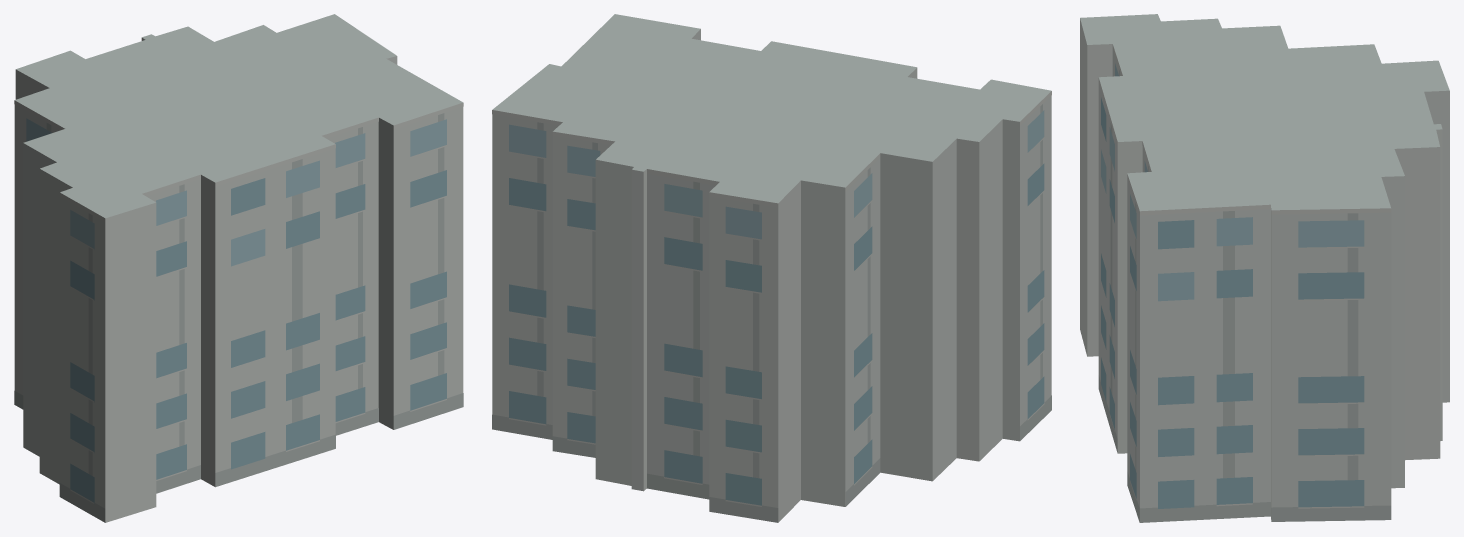
Rendered from survey-upis-32826813.glb.
3 views of the same model, side by side, from view 1: azimuth 30°, elevation 25°; view 2: azimuth 150°, elevation 25°; view 3: azimuth 270°, elevation 25° (orthographic). The views are drawn at different scales.
Parts seen in each view (by area): view 1: survey-upis-32826813.tmp; view 2: survey-upis-32826813.tmp; view 3: survey-upis-32826813.tmp.
Boxes of the visible parts, x1,y1,x2,y2 form: survey-upis-32826813.tmp: (14, 14, 463, 522); survey-upis-32826813.tmp: (492, 14, 1051, 522); survey-upis-32826813.tmp: (1080, 14, 1449, 522).
Bounding box in the file's own units: 23.75 × 17.5 × 18.82.
